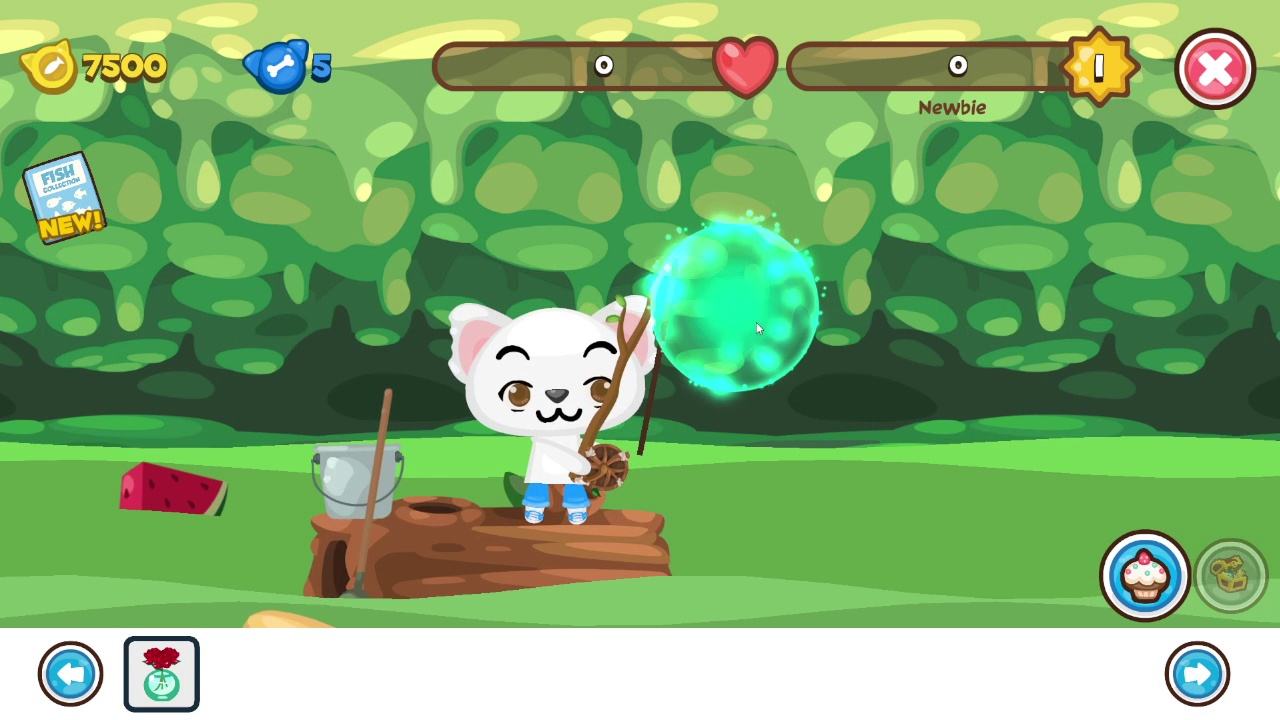point: (651, 218, 822, 394)
